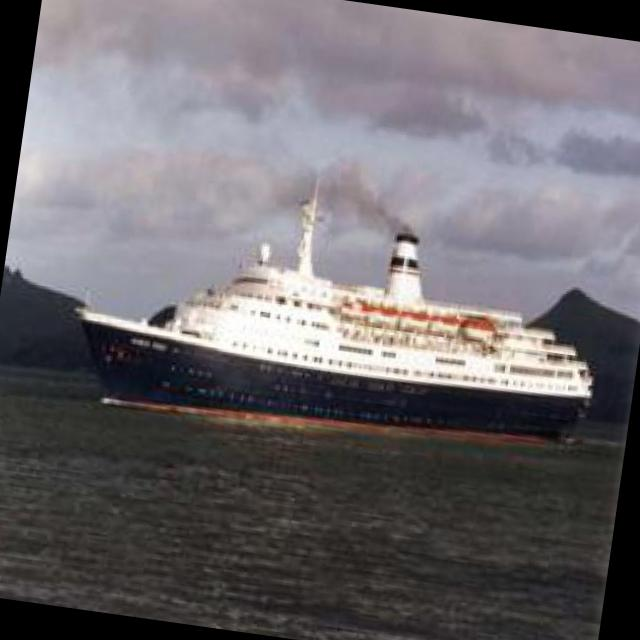boat: (42, 218, 618, 477)
